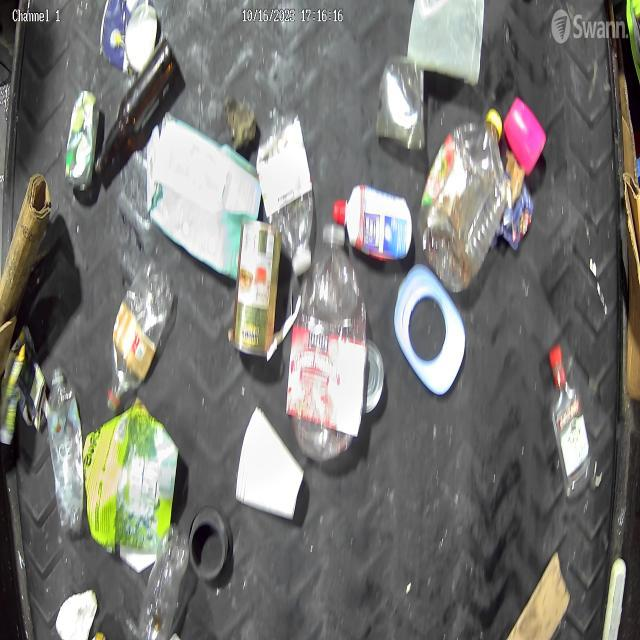can: (235, 220, 285, 368), (102, 3, 162, 77), (64, 88, 98, 194)
plastic_bottle: (294, 216, 366, 459), (422, 111, 511, 296), (108, 260, 176, 410), (260, 120, 316, 282), (48, 363, 86, 539), (140, 523, 191, 640)
